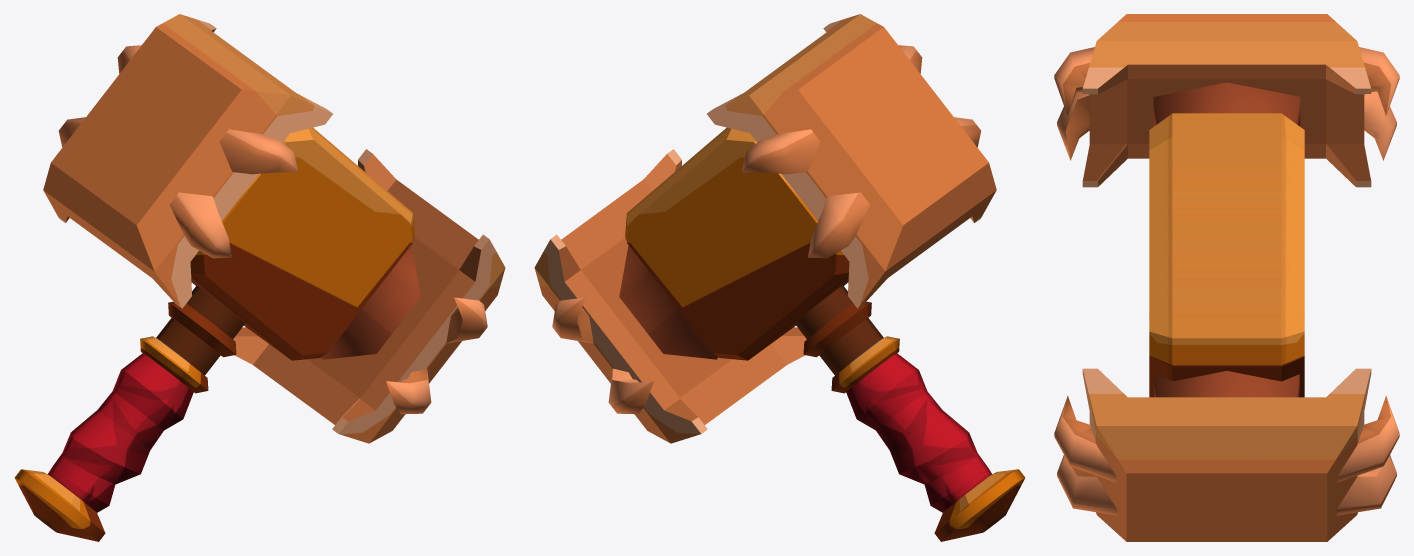
The model's file is antiquity abyss_04.FBX.
3 renders of one model, left to right at view 1: azimuth 30°, elevation 25°; view 2: azimuth 150°, elevation 25°; view 3: azimuth 270°, elevation 25°, orthographic. The views are drawn at different scales.
Parts seen in each view (by area): view 1: antiquity abyss_04; view 2: antiquity abyss_04; view 3: antiquity abyss_04.
Boxes of the visible parts, left/top/right/bottom form: antiquity abyss_04: left=14, top=14, right=505, bottom=541; antiquity abyss_04: left=534, top=14, right=1025, bottom=541; antiquity abyss_04: left=1054, top=14, right=1399, bottom=541.
Bounding box in the file's own units: 68.95 × 68.96 × 40.72.
